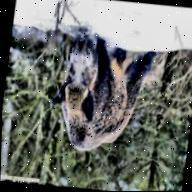boar: (43, 25, 158, 159)
